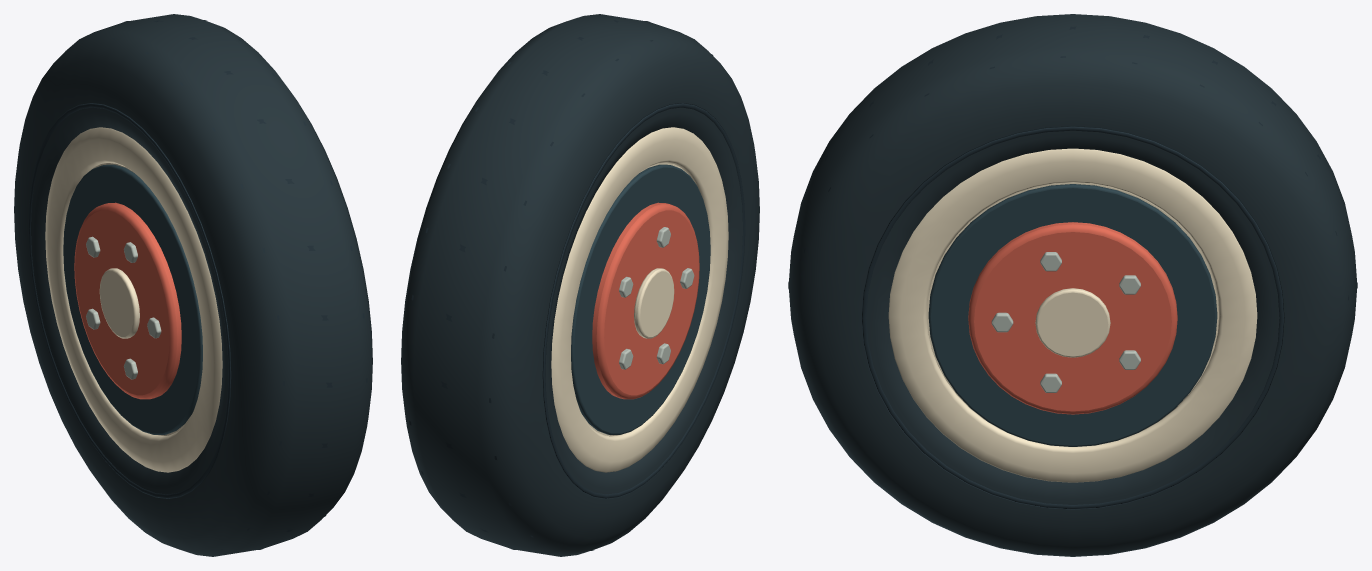
File: street-wheel.glb
The picture shows the model from 3 angles, left to right: view 1: azimuth 30°, elevation 25°; view 2: azimuth 150°, elevation 25°; view 3: azimuth 270°, elevation 25°; orthographic projection. The views are drawn at different scales.
Parts seen in each view (by area): view 1: street-wheel_DD_Rubber, street-wheel_DD_Cream, street-wheel_PlayerColor, street-wheel_DD_DeepInk, street-wheel_DD_RubberDetail, street-wheel_DD_Metal; view 2: street-wheel_DD_Rubber, street-wheel_DD_Cream, street-wheel_PlayerColor, street-wheel_DD_DeepInk, street-wheel_DD_RubberDetail, street-wheel_DD_Metal; view 3: street-wheel_DD_Rubber, street-wheel_DD_Cream, street-wheel_DD_DeepInk, street-wheel_PlayerColor, street-wheel_DD_RubberDetail, street-wheel_DD_Metal.
Part boxes in pixels (x1=…): street-wheel_DD_Rubber: x1=14, y1=14, x2=372, y2=556; street-wheel_DD_Cream: x1=45, y1=127, x2=222, y2=472; street-wheel_PlayerColor: x1=74, y1=202, x2=181, y2=399; street-wheel_DD_DeepInk: x1=63, y1=164, x2=202, y2=434; street-wheel_DD_RubberDetail: x1=28, y1=20, x2=367, y2=552; street-wheel_DD_Metal: x1=86, y1=236, x2=161, y2=379; street-wheel_DD_Rubber: x1=401, y1=14, x2=759, y2=556; street-wheel_DD_Cream: x1=551, y1=127, x2=728, y2=472; street-wheel_PlayerColor: x1=592, y1=202, x2=699, y2=399; street-wheel_DD_DeepInk: x1=571, y1=164, x2=710, y2=434; street-wheel_DD_RubberDetail: x1=406, y1=20, x2=745, y2=552; street-wheel_DD_Metal: x1=619, y1=227, x2=694, y2=369; street-wheel_DD_Rubber: x1=788, y1=14, x2=1357, y2=556; street-wheel_DD_Cream: x1=888, y1=148, x2=1257, y2=482; street-wheel_DD_DeepInk: x1=928, y1=184, x2=1217, y2=446; street-wheel_PlayerColor: x1=968, y1=222, x2=1177, y2=414; street-wheel_DD_RubberDetail: x1=788, y1=26, x2=1357, y2=556; street-wheel_DD_Metal: x1=991, y1=252, x2=1140, y2=392.
Size of the model in its own units: 0.325 by 1 by 1.
